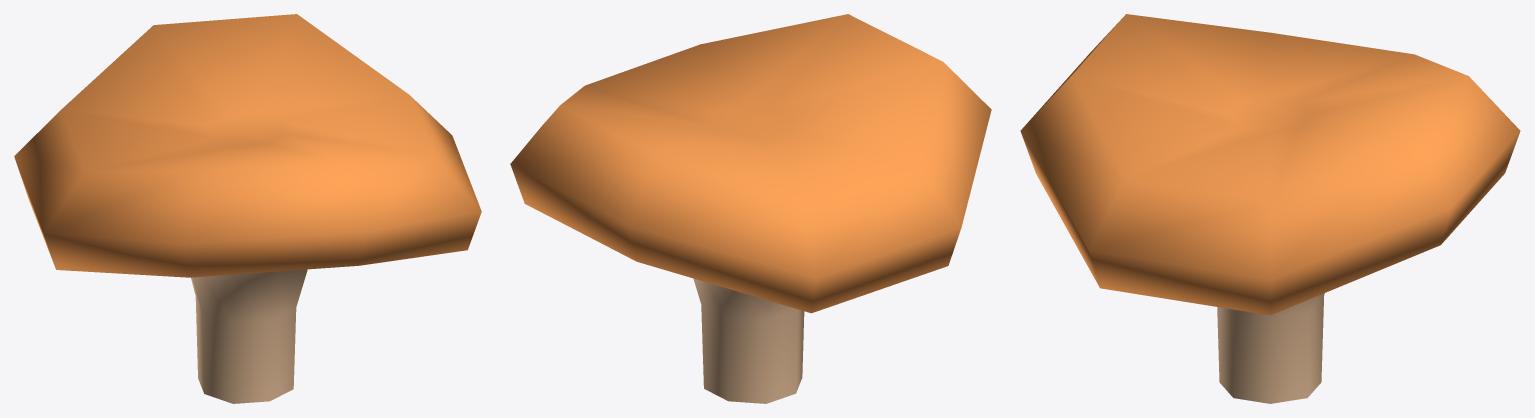
The model's file is Mashroom_03.fbx.
The picture shows the model from 3 angles, left to right: view 1: azimuth 30°, elevation 25°; view 2: azimuth 150°, elevation 25°; view 3: azimuth 270°, elevation 25°; orthographic projection. The views are drawn at different scales.
Parts seen in each view (by area): view 1: Mashroom_03; view 2: Mashroom_03; view 3: Mashroom_03.
Part boxes in pixels (x1=…): Mashroom_03: x1=14, y1=14, x2=481, y2=403; Mashroom_03: x1=510, y1=14, x2=991, y2=403; Mashroom_03: x1=1020, y1=14, x2=1520, y2=403.
Size of the model in its own units: 29.85 by 20.29 by 29.85.
